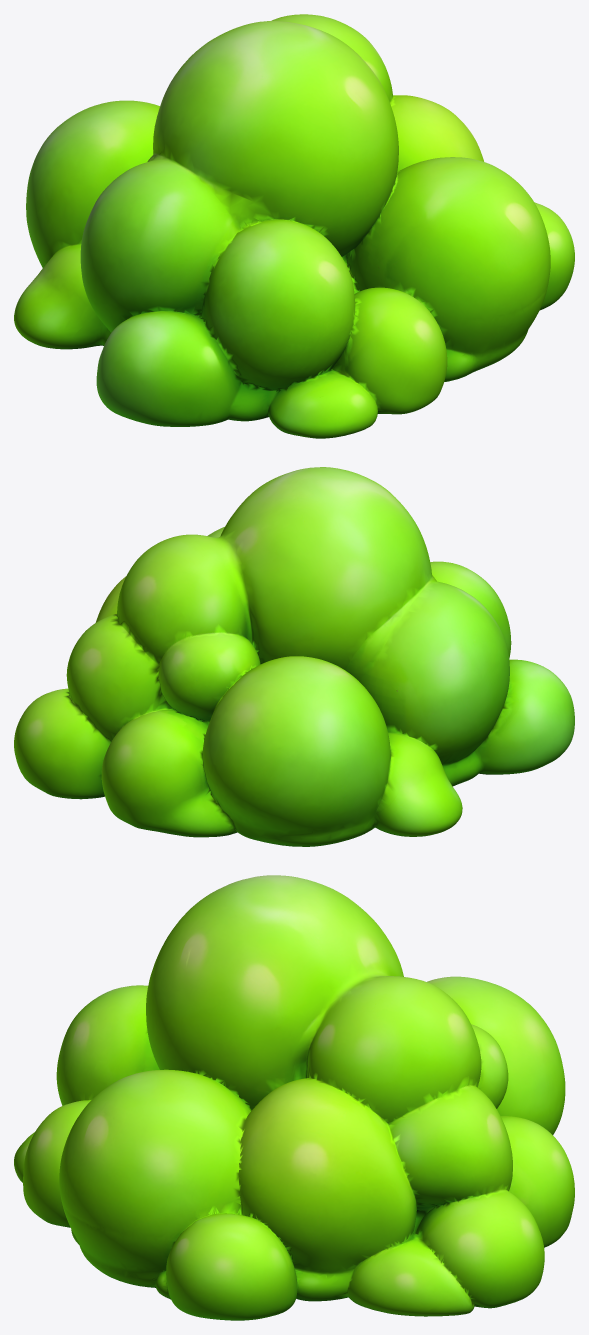
File: arbustos-3d.glb
3 views of the same model, one above another, from view 1: azimuth 30°, elevation 25°; view 2: azimuth 150°, elevation 25°; view 3: azimuth 270°, elevation 25° (orthographic). The views are drawn at different scales.
Visible parts, largest first — view 1: tripo_node_aedf0ffe-559a-4256-879e-cdc73d826f1f; view 2: tripo_node_aedf0ffe-559a-4256-879e-cdc73d826f1f; view 3: tripo_node_aedf0ffe-559a-4256-879e-cdc73d826f1f.
Boxes of the visible parts, left/top/right/bottom form: tripo_node_aedf0ffe-559a-4256-879e-cdc73d826f1f: left=14, top=14, right=574, bottom=438; tripo_node_aedf0ffe-559a-4256-879e-cdc73d826f1f: left=14, top=467, right=574, bottom=846; tripo_node_aedf0ffe-559a-4256-879e-cdc73d826f1f: left=14, top=875, right=574, bottom=1320.
Size of the model in its own units: 0.9799 by 0.5747 by 0.9349.
1 material, 1 textured.
